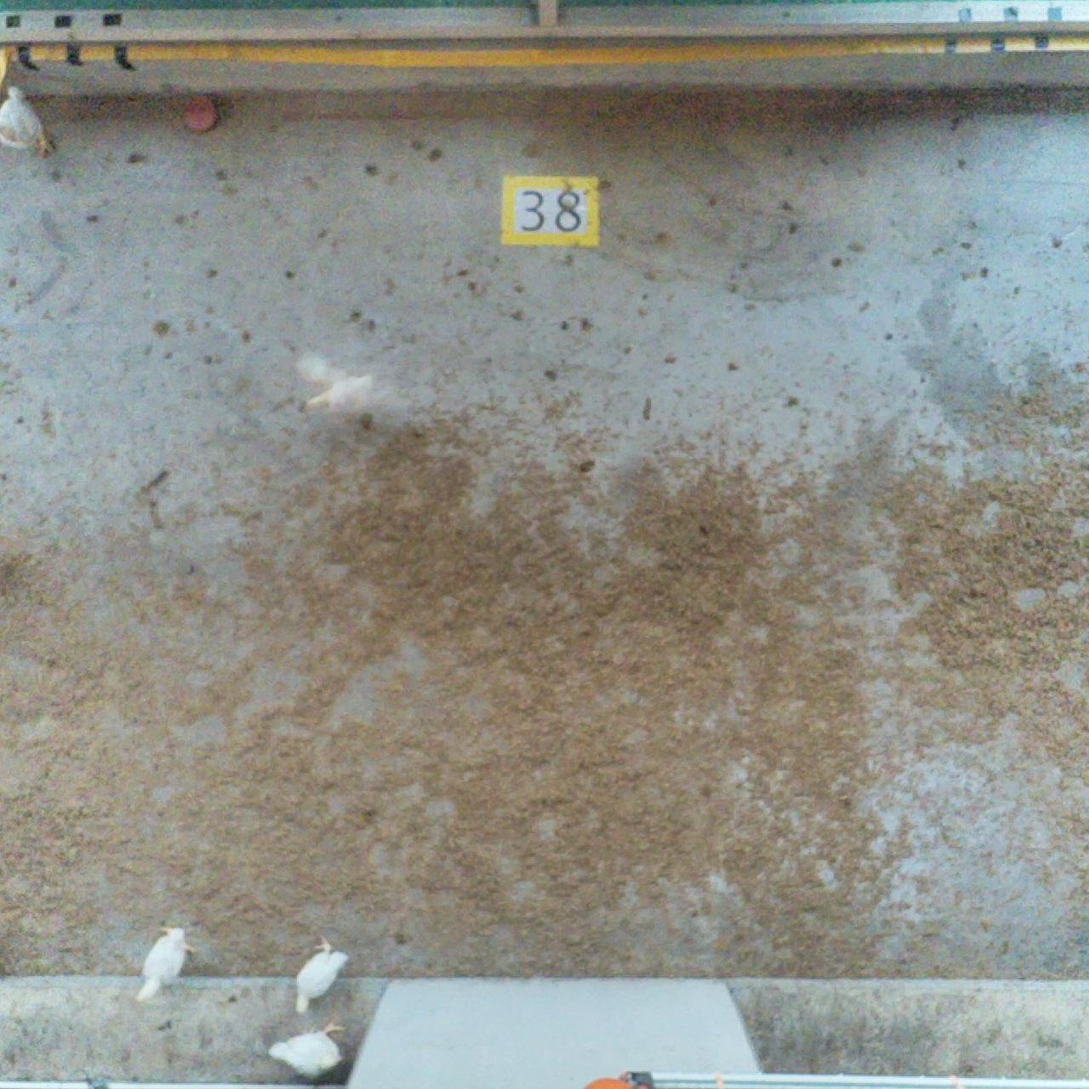chicken: (293, 340, 406, 433), (283, 927, 352, 1019), (135, 921, 205, 1009), (258, 1020, 351, 1084), (0, 78, 59, 164)
